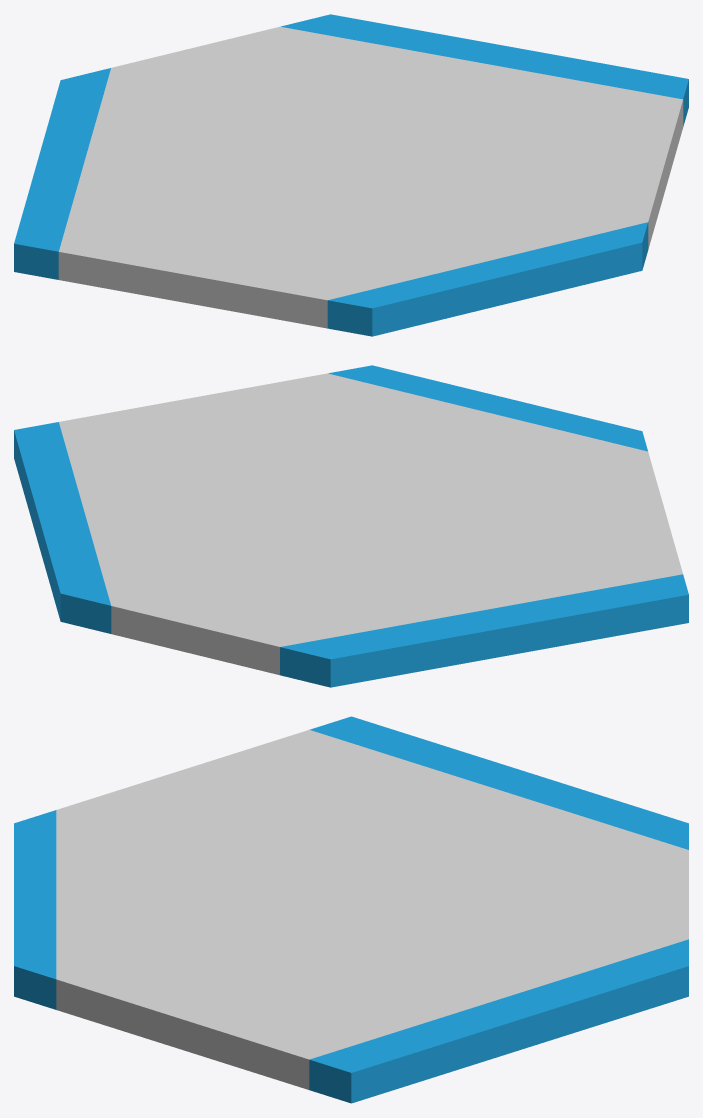
The picture shows the model from 3 angles, top to bottom: view 1: azimuth 30°, elevation 25°; view 2: azimuth 150°, elevation 25°; view 3: azimuth 270°, elevation 25°; orthographic projection. The views are drawn at different scales.
Visible parts, largest first — view 1: Hexagon, S.001, NW.001, NE; view 2: Hexagon, NW.001, NE, S.001; view 3: Hexagon, NE, NW.001, S.001.
Boxes of the visible parts, x1,y1,x2,y2 form: Hexagon: (58,26,683,328); S.001: (327,222,648,336); NW.001: (14,68,110,279); NE: (281,14,688,126); Hexagon: (59,373,682,675); NW.001: (280,574,688,687); NE: (14,422,111,633); S.001: (328,365,647,451); Hexagon: (56,730,688,1089); NE: (309,939,688,1103); NW.001: (309,716,688,849); S.001: (14,810,56,1009).
Bounding box in the file's own units: 5 × 4 × 0.2.
